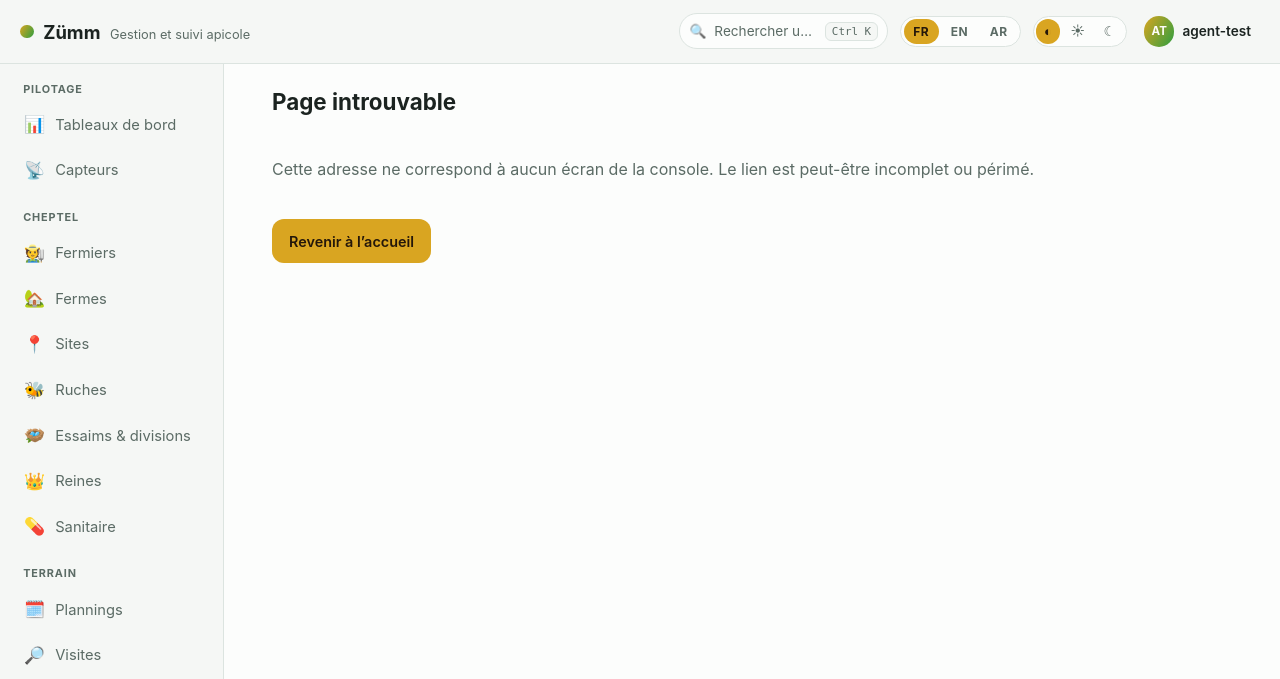
Test: ossature de la console › ramène à l’accueil depuis l’écran « page introuvable »
Check: the heading "Page introuvable" is shown, box [272,88,456,115]
Click the button "Revenir à l’accueil": [352, 241] box [272,219,431,263]
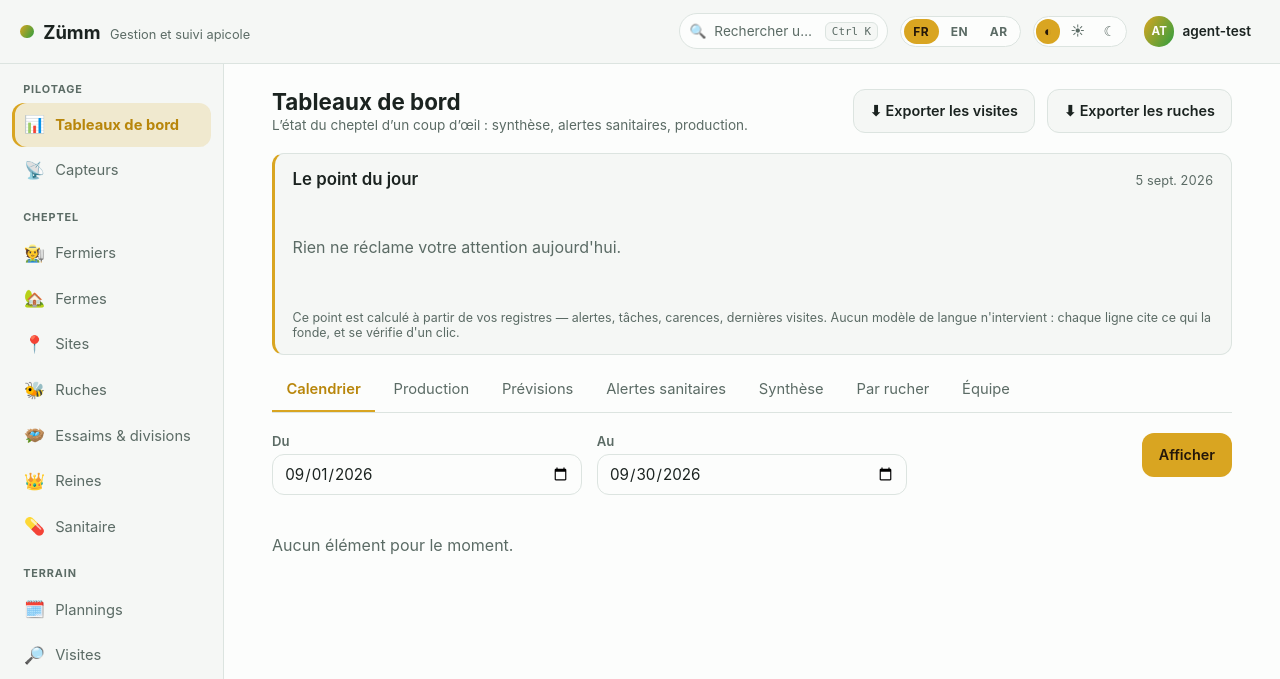
Check: the heading "Tableaux de bord" is shown, box [272,88,461,115]
